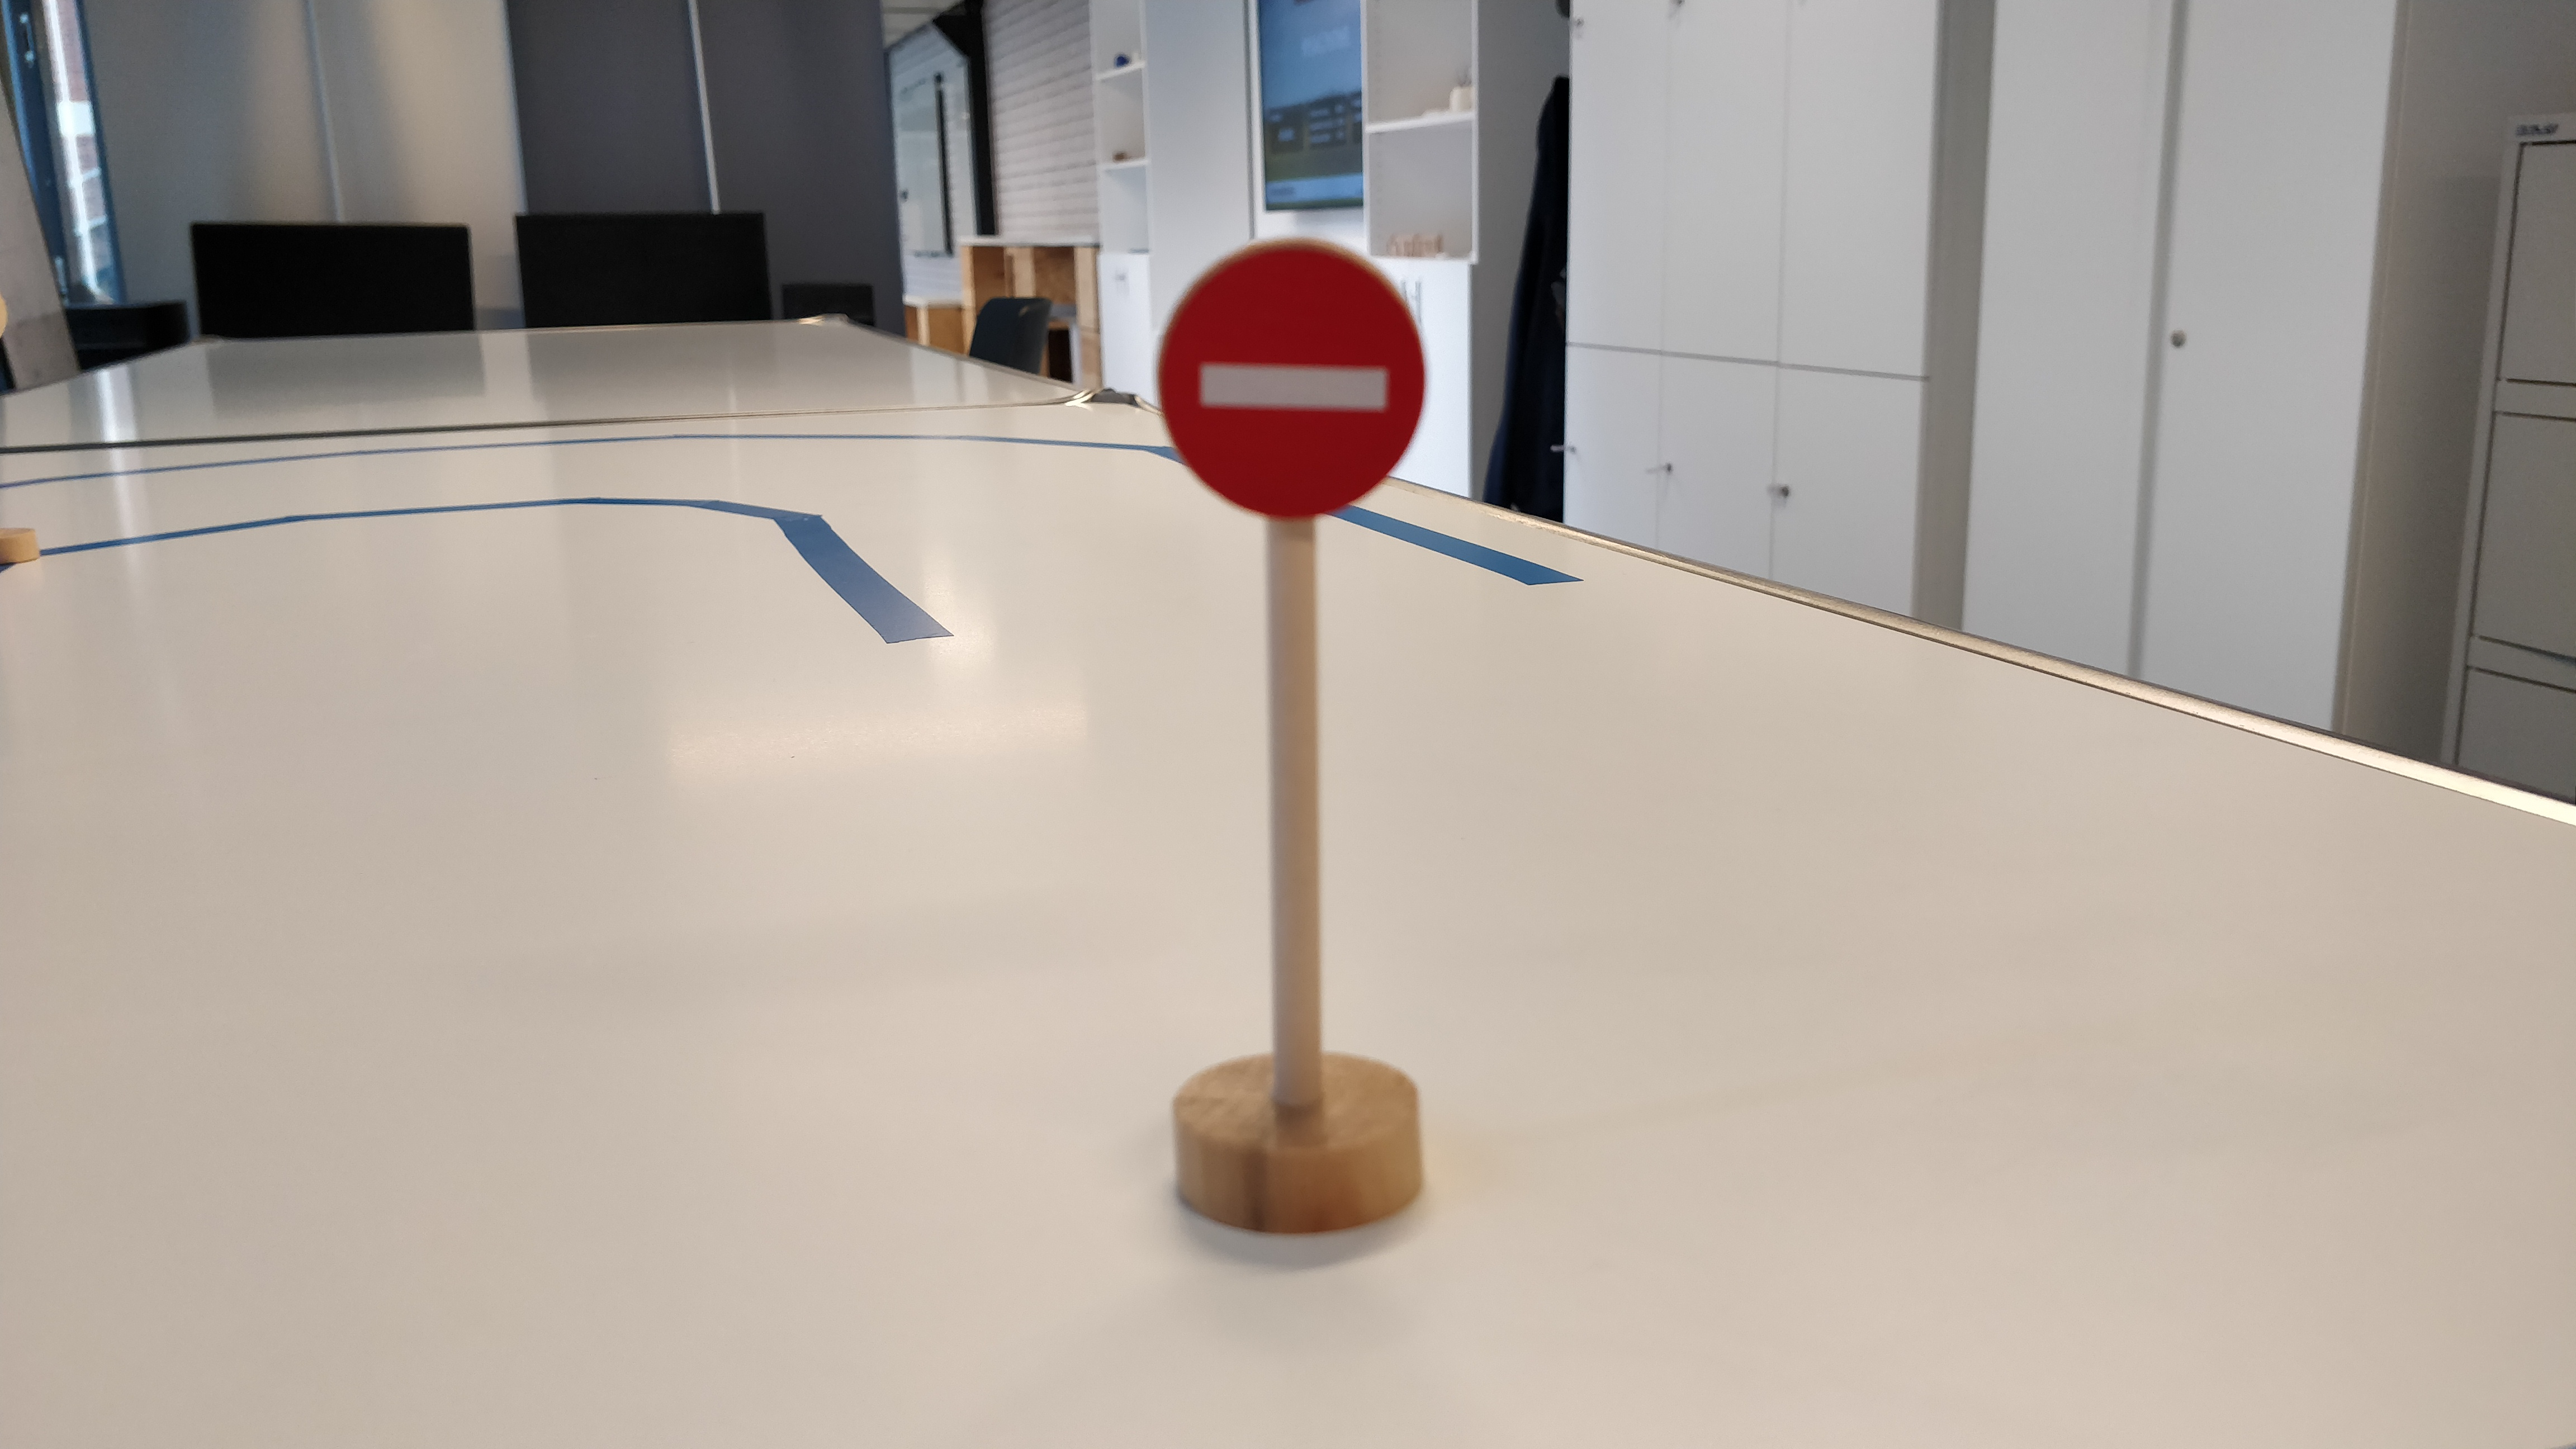Prohibition Sign: (1155, 232, 1429, 527)
